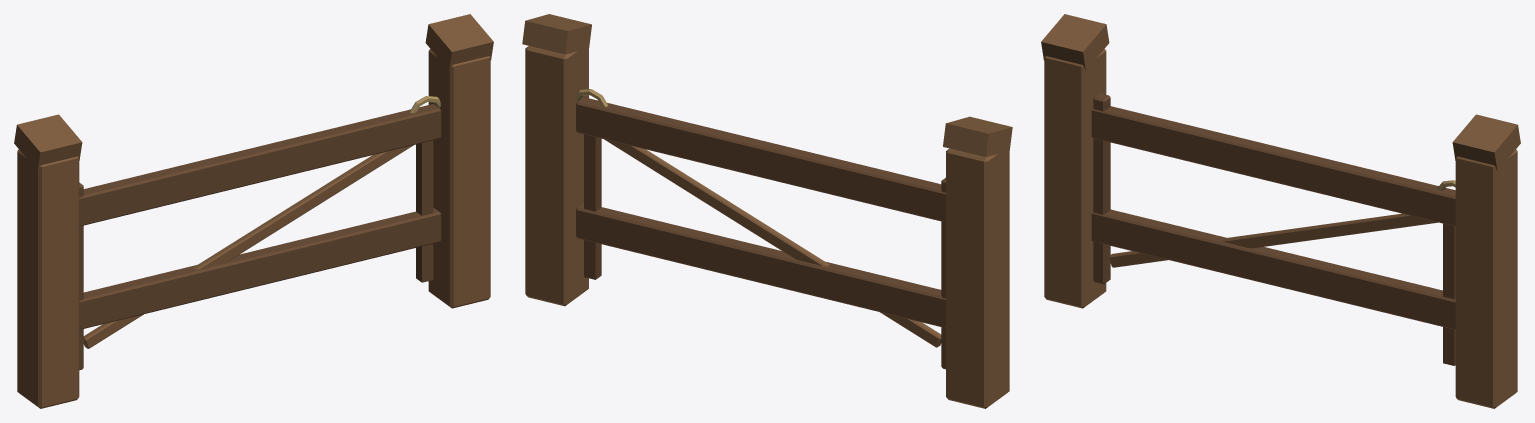
The model's file is SM_Fence_RusticRail_01_Gate.fbx.
The picture shows the model from 3 angles, left to right: view 1: azimuth 30°, elevation 25°; view 2: azimuth 150°, elevation 25°; view 3: azimuth 330°, elevation 25°; orthographic projection. The views are drawn at different scales.
Parts seen in each view (by area): view 1: SM_Fence_RusticRail_01_Gate_PostHinge, SM_Fence_RusticRail_01_Gate_PostLatch, SM_Fence_RusticRail_01_Gate_Leaf_Rail78, SM_Fence_RusticRail_01_Gate_Leaf_Rail30, SM_Fence_RusticRail_01_Gate_Leaf_Brace, SM_Fence_RusticRail_01_Gate_PostLatch_Cap, SM_Fence_RusticRail_01_Gate_PostHinge_Cap, SM_Fence_RusticRail_01_Gate_Leaf_StileFar, SM_Fence_RusticRail_01_Gate_Leaf; view 2: SM_Fence_RusticRail_01_Gate_PostHinge, SM_Fence_RusticRail_01_Gate_PostLatch, SM_Fence_RusticRail_01_Gate_Leaf_Rail78, SM_Fence_RusticRail_01_Gate_Leaf_Rail30, SM_Fence_RusticRail_01_Gate_Leaf_Brace, SM_Fence_RusticRail_01_Gate_PostHinge_Cap, SM_Fence_RusticRail_01_Gate_PostLatch_Cap, SM_Fence_RusticRail_01_Gate_Leaf_StileFar, SM_Fence_RusticRail_01_Gate_Leaf; view 3: SM_Fence_RusticRail_01_Gate_PostLatch, SM_Fence_RusticRail_01_Gate_Leaf_Rail78, SM_Fence_RusticRail_01_Gate_Leaf_Rail30, SM_Fence_RusticRail_01_Gate_PostHinge, SM_Fence_RusticRail_01_Gate_Leaf_Brace, SM_Fence_RusticRail_01_Gate_PostHinge_Cap, SM_Fence_RusticRail_01_Gate_PostLatch_Cap, SM_Fence_RusticRail_01_Gate_Leaf, SM_Fence_RusticRail_01_Gate_Leaf_StileFar.
Part boxes in pixels (left/top/right/bottom): SM_Fence_RusticRail_01_Gate_PostHinge: left=17, top=149, right=79, bottom=408; SM_Fence_RusticRail_01_Gate_PostLatch: left=428, top=49, right=490, bottom=308; SM_Fence_RusticRail_01_Gate_Leaf_Rail78: left=79, top=104, right=441, bottom=226; SM_Fence_RusticRail_01_Gate_Leaf_Rail30: left=79, top=207, right=441, bottom=329; SM_Fence_RusticRail_01_Gate_Leaf_Brace: left=83, top=145, right=413, bottom=348; SM_Fence_RusticRail_01_Gate_PostLatch_Cap: left=425, top=14, right=493, bottom=70; SM_Fence_RusticRail_01_Gate_PostHinge_Cap: left=14, top=114, right=82, bottom=171; SM_Fence_RusticRail_01_Gate_Leaf_StileFar: left=416, top=140, right=433, bottom=282; SM_Fence_RusticRail_01_Gate_Leaf: left=79, top=182, right=83, bottom=370; SM_Fence_RusticRail_01_Gate_PostHinge: left=946, top=148, right=1009, bottom=408; SM_Fence_RusticRail_01_Gate_PostLatch: left=525, top=46, right=588, bottom=306; SM_Fence_RusticRail_01_Gate_Leaf_Rail78: left=576, top=97, right=945, bottom=222; SM_Fence_RusticRail_01_Gate_Leaf_Rail30: left=576, top=203, right=945, bottom=327; SM_Fence_RusticRail_01_Gate_Leaf_Brace: left=604, top=139, right=941, bottom=347; SM_Fence_RusticRail_01_Gate_PostHinge_Cap: left=943, top=116, right=1012, bottom=157; SM_Fence_RusticRail_01_Gate_PostLatch_Cap: left=522, top=14, right=591, bottom=54; SM_Fence_RusticRail_01_Gate_Leaf_StileFar: left=584, top=134, right=601, bottom=279; SM_Fence_RusticRail_01_Gate_Leaf: left=941, top=177, right=945, bottom=369; SM_Fence_RusticRail_01_Gate_PostLatch: left=1455, top=149, right=1517, bottom=408; SM_Fence_RusticRail_01_Gate_Leaf_Rail78: left=1091, top=106, right=1455, bottom=226; SM_Fence_RusticRail_01_Gate_Leaf_Rail30: left=1091, top=209, right=1455, bottom=329; SM_Fence_RusticRail_01_Gate_PostHinge: left=1044, top=49, right=1106, bottom=308; SM_Fence_RusticRail_01_Gate_Leaf_Brace: left=1109, top=213, right=1438, bottom=267; SM_Fence_RusticRail_01_Gate_PostHinge_Cap: left=1041, top=14, right=1109, bottom=70; SM_Fence_RusticRail_01_Gate_PostLatch_Cap: left=1452, top=114, right=1520, bottom=171; SM_Fence_RusticRail_01_Gate_Leaf: left=1093, top=93, right=1110, bottom=284; SM_Fence_RusticRail_01_Gate_Leaf_StileFar: left=1443, top=223, right=1455, bottom=365.
Bounding box in the file's own units: 2.2 × 1.25 × 0.2221.
